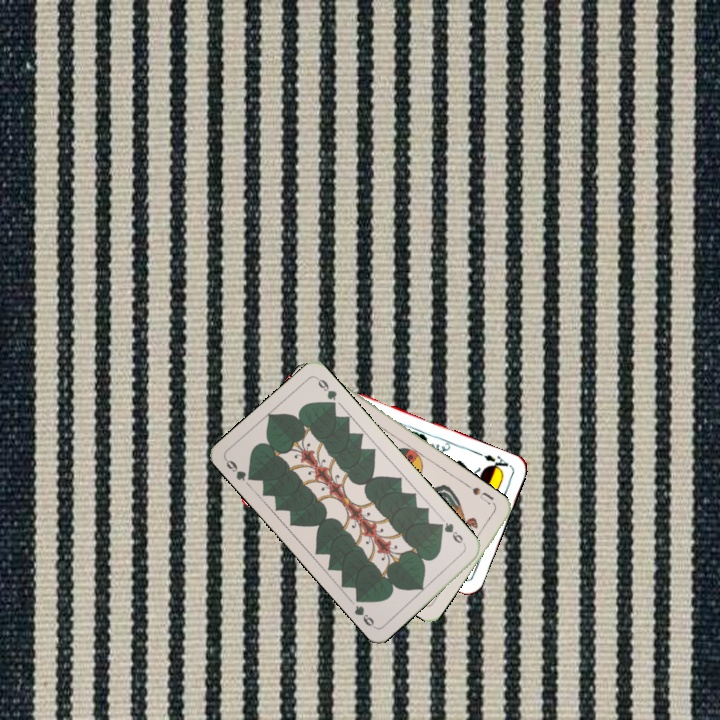EA: (480, 451, 513, 474)
G9: (434, 518, 469, 549), (221, 455, 257, 484)
SU: (468, 483, 496, 507)
